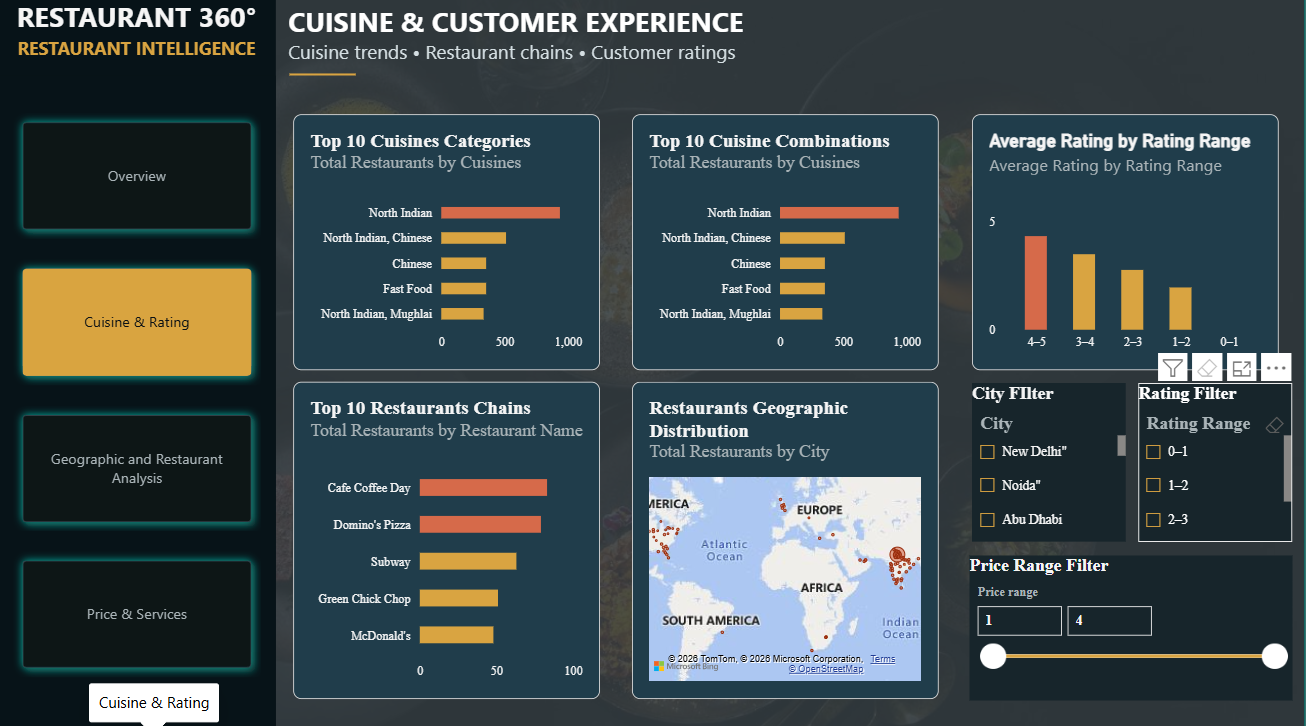

The page's visual inventory and layout, read from the dashboard file:
{"tool":"powerbi","page":{"name":"Cuisine & Rating","canvas":[1280,720],"ordinal":1},"visuals":[{"type":"shape","box":[0,0,1280,720],"z":0},{"type":"clusteredBarChart","title":"Top 10 Cuisines Categories","fields":{"Category":["Restaurantdata.Cuisines"],"Y":["Restaurantdata.Total Restaurants"]},"box":[290,113.3,300,250],"z":1000},{"type":"clusteredColumnChart","title":"Average Rating by Rating Range","fields":{"Category":["Restaurantdata.Rating Range"],"Y":["Restaurantdata.Average Rating1"]},"box":[953.3,113.3,300,250],"z":2000},{"type":"clusteredBarChart","title":"Top 10 Cuisine Combinations","fields":{"Category":["Restaurantdata.Cuisines"],"Y":["Restaurantdata.Total Restaurants"]},"box":[621.7,113.3,300,250],"z":3000},{"type":"map","title":"Restaurants Geographic Distribution","fields":{"Category":["Restaurantdata.City"],"Size":["Restaurantdata.Total Restaurants"]},"box":[621.7,375.8,300,310],"z":4000},{"type":"clusteredBarChart","title":"Top 10 Restaurants Chains","fields":{"Category":["Restaurantdata.Restaurant Name"],"Y":["Restaurantdata.Total Restaurants"]},"box":[290,375.8,300,310],"z":5000},{"type":"slicer","title":"City FIlter","fields":{"Values":["Restaurantdata.City"]},"box":[953.3,376.7,150,155],"z":6000},{"type":"slicer","title":"Price Range Filter","fields":{"Values":["Restaurantdata.Price range"]},"box":[951.7,545,315,141.7],"z":7000},{"type":"slicer","title":"Rating Filter","fields":{"Values":["Restaurantdata.Rating Range"]},"box":[1116.7,376.7,150,155],"z":8000},{"type":"shape","title":"RESTAURANT 360°","box":[0,0,272.7,712.9],"z":9000},{"type":"pageNavigator","box":[15.9,112.5,242.9,555.7],"z":10000},{"type":"textbox","box":[285,5,511.7,80],"z":11000},{"type":"shape","box":[286.2,65,65,20],"z":12000}]}

Visuals, with their boxes in screenshot pixels (x1, y1, x2, y2), scaled from the page's 1280x720 canvas onto the 1306x726 screenshot:
shape: left=0, top=0, right=1305, bottom=725
"Top 10 Cuisines Categories" clusteredBarChart: left=296, top=114, right=602, bottom=366
"Average Rating by Rating Range" clusteredColumnChart: left=973, top=114, right=1279, bottom=366
"Top 10 Cuisine Combinations" clusteredBarChart: left=634, top=114, right=940, bottom=366
"Restaurants Geographic Distribution" map: left=634, top=379, right=940, bottom=692
"Top 10 Restaurants Chains" clusteredBarChart: left=296, top=379, right=602, bottom=692
"City FIlter" slicer: left=973, top=380, right=1126, bottom=536
"Price Range Filter" slicer: left=971, top=550, right=1292, bottom=692
"Rating Filter" slicer: left=1139, top=380, right=1292, bottom=536
"RESTAURANT 360°" shape: left=0, top=0, right=278, bottom=719
pageNavigator: left=16, top=113, right=264, bottom=674
textbox: left=291, top=5, right=813, bottom=86
shape: left=292, top=66, right=358, bottom=86
